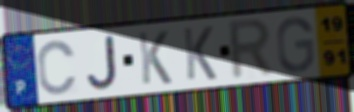C: (35, 38, 79, 97)
G: (275, 15, 317, 75)
J: (85, 33, 120, 92)
K: (136, 29, 174, 87), (181, 25, 219, 82)
R: (227, 16, 277, 83)
